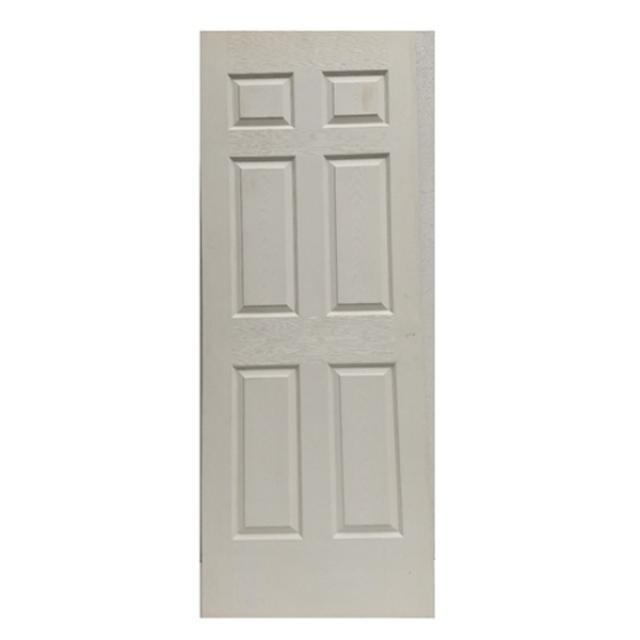door: (199, 30, 436, 619)
